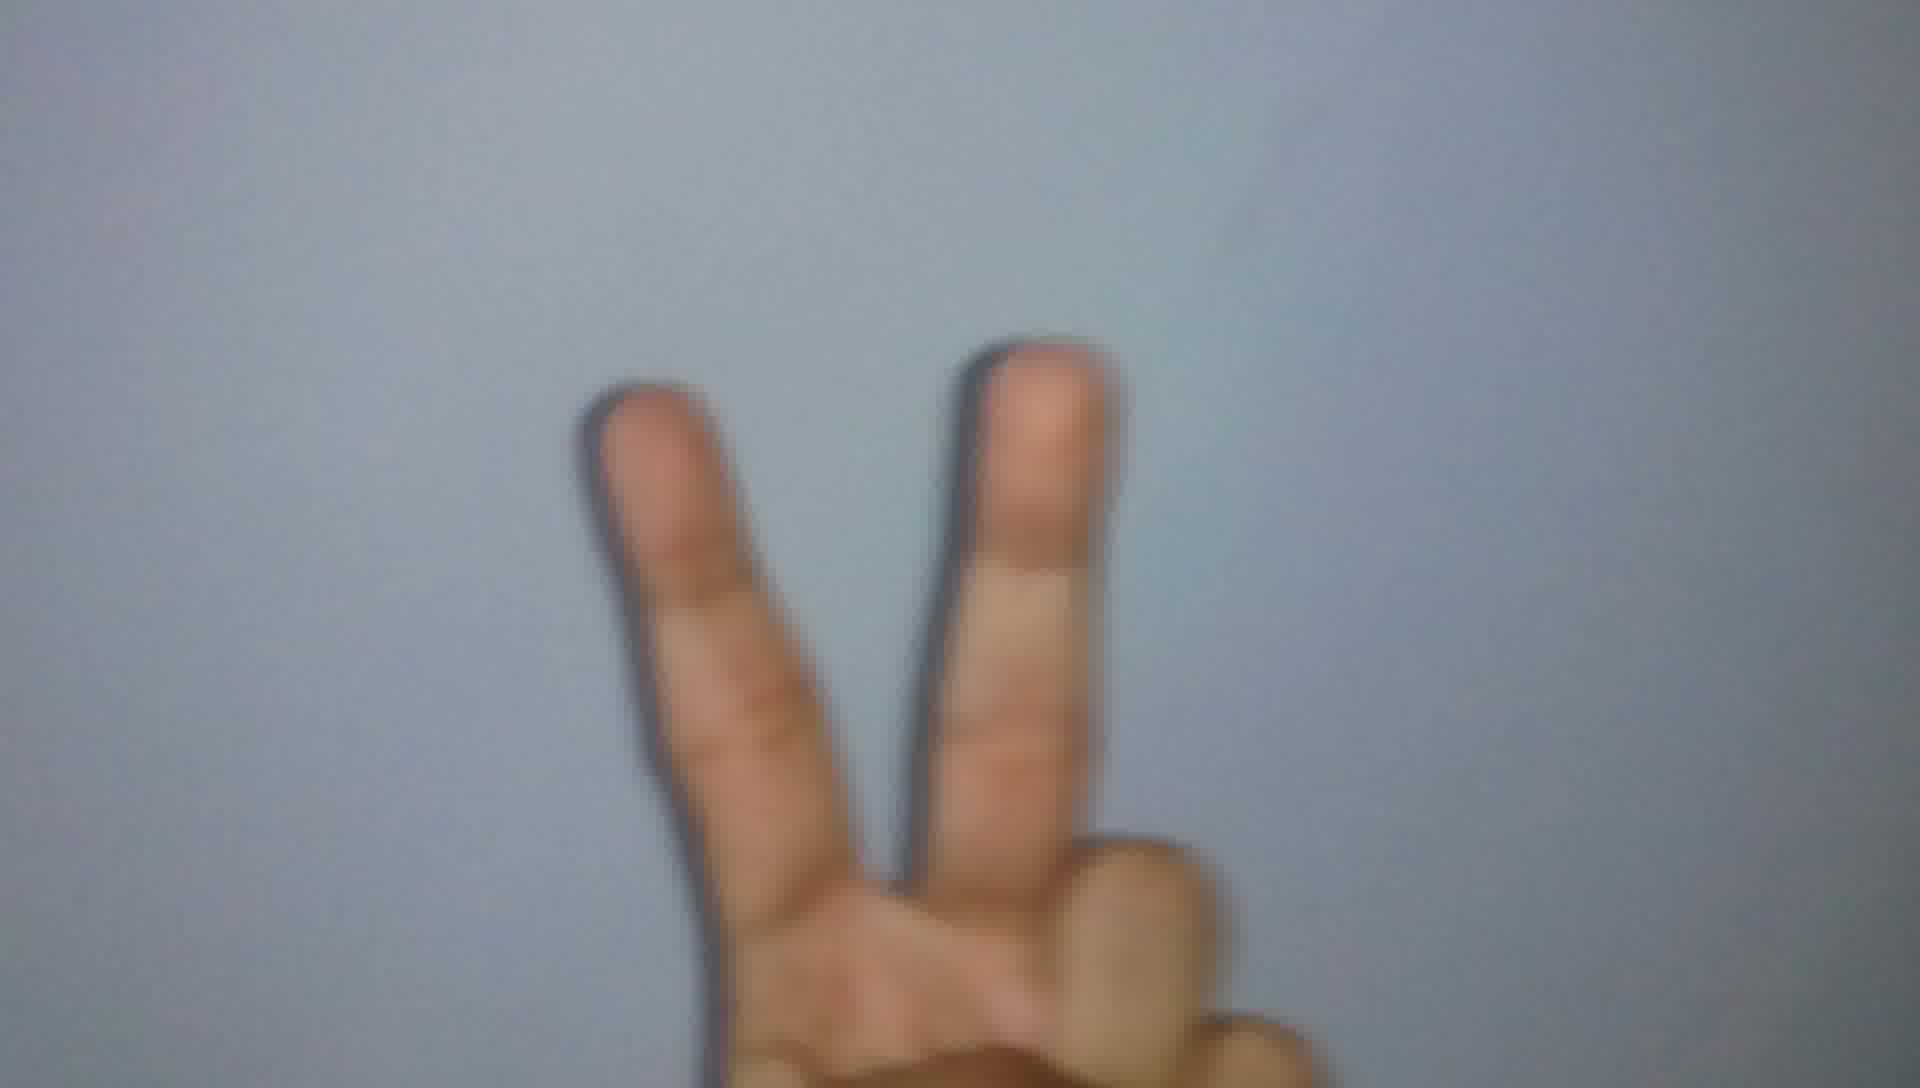V: (574, 238, 1316, 1088)
